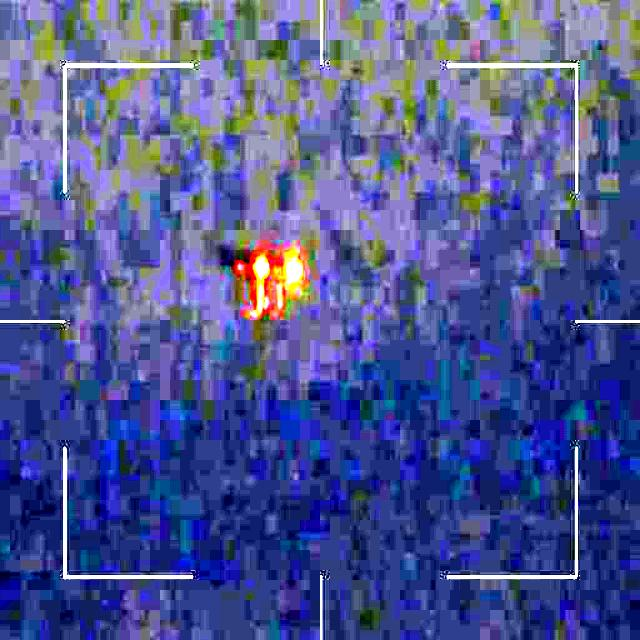bird: (226, 251, 315, 340)
